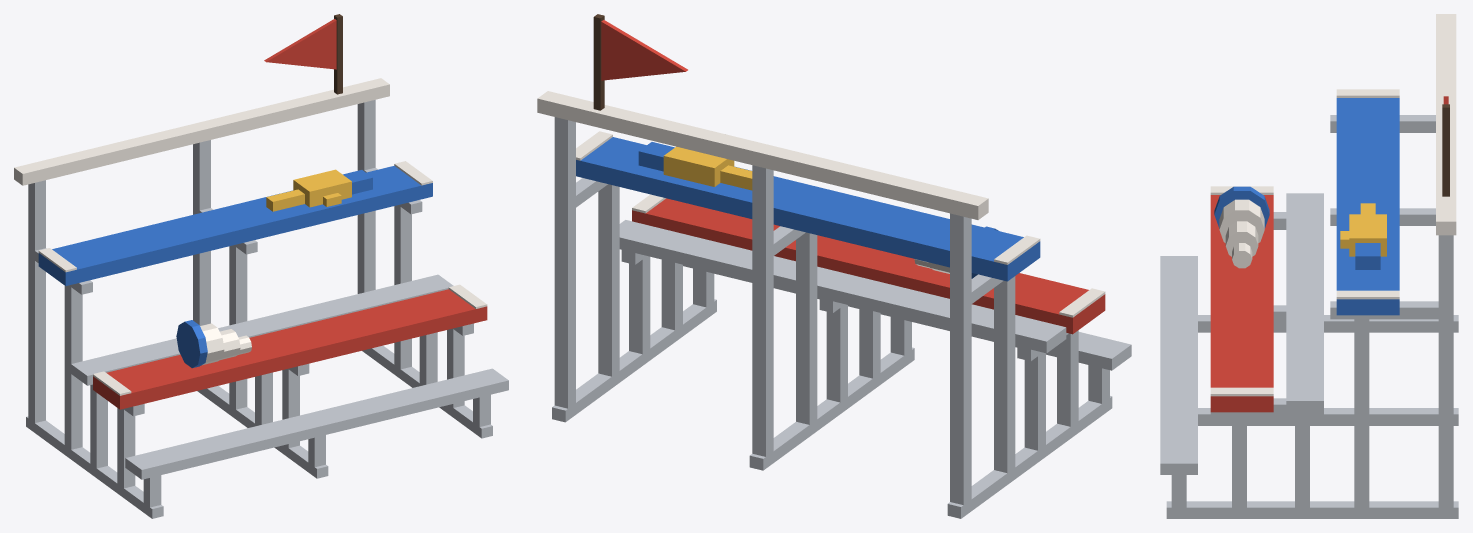
File: CatCafe_Decor_BleacherBench.glb
3 renders of one model, left to right at view 1: azimuth 30°, elevation 25°; view 2: azimuth 150°, elevation 25°; view 3: azimuth 270°, elevation 25°, orthographic. The views are drawn at different scales.
Visible parts, largest first — view 1: CatCafe_Decor_BleacherBench; view 2: CatCafe_Decor_BleacherBench; view 3: CatCafe_Decor_BleacherBench.
Part boxes in pixels (<box>): CatCafe_Decor_BleacherBench: <box>14,14,508,518</box>; CatCafe_Decor_BleacherBench: <box>537,14,1131,518</box>; CatCafe_Decor_BleacherBench: <box>1160,14,1458,518</box>.
Bounding box in the file's own units: 3.9 × 3.45 × 2.37.
1 material, 1 textured.
